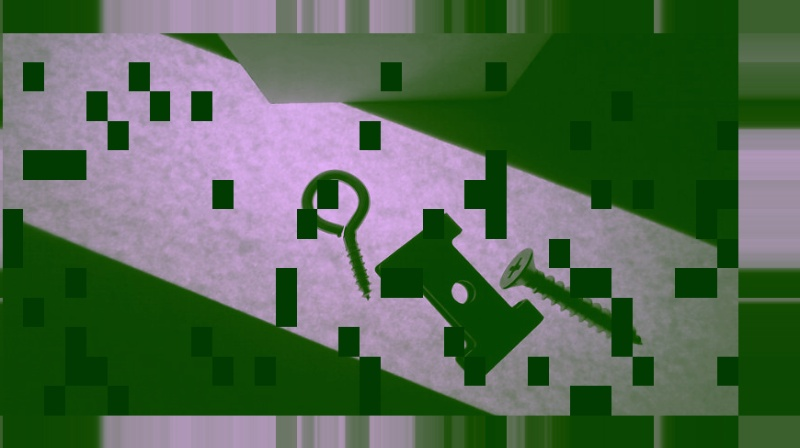O001: (298, 168, 374, 302)
O002: (372, 211, 546, 376)
S001: (500, 248, 645, 347)
